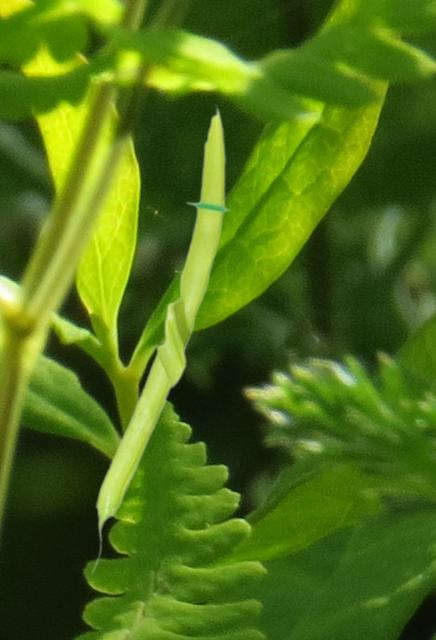french_bean: (90, 103, 230, 574)
